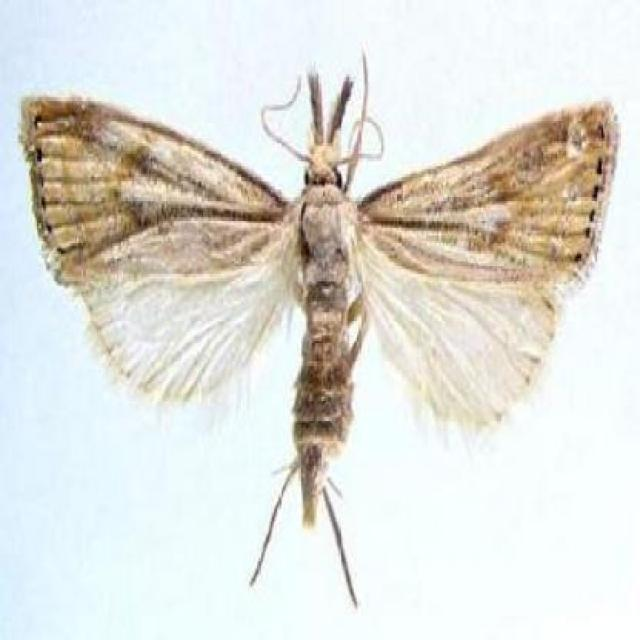stem-borer: (17, 46, 620, 612)
